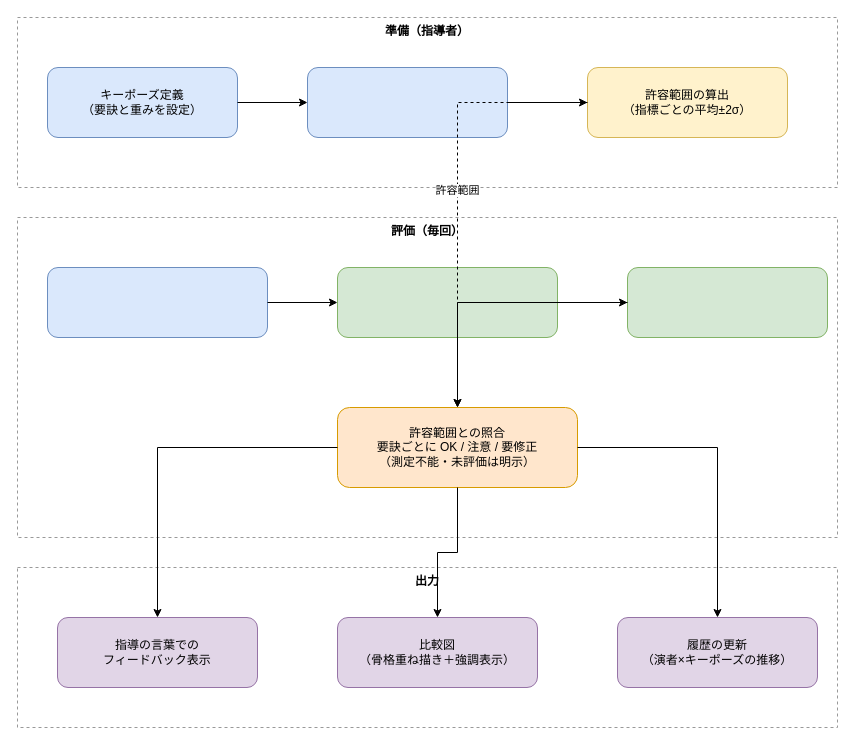
The diagram is 855 pixels wide and 745 high, and some of its shapes have lost their labels. The box of each missing label's shape, as (x1, y1, x2, y2) in pixels:
お手本写真の登録 （正面・側面 × 複数枚）: (306, 66, 508, 138)
姿勢抽出 （骨格ランドマーク＋信頼度）: (336, 266, 558, 338)
演者のキーポーズ撮影 （撮影ガイドに従い 正面・側面）: (46, 266, 268, 338)
要訣指標の算出 （体幹傾き・膝角度・重心位置 等）: (626, 266, 828, 338)
